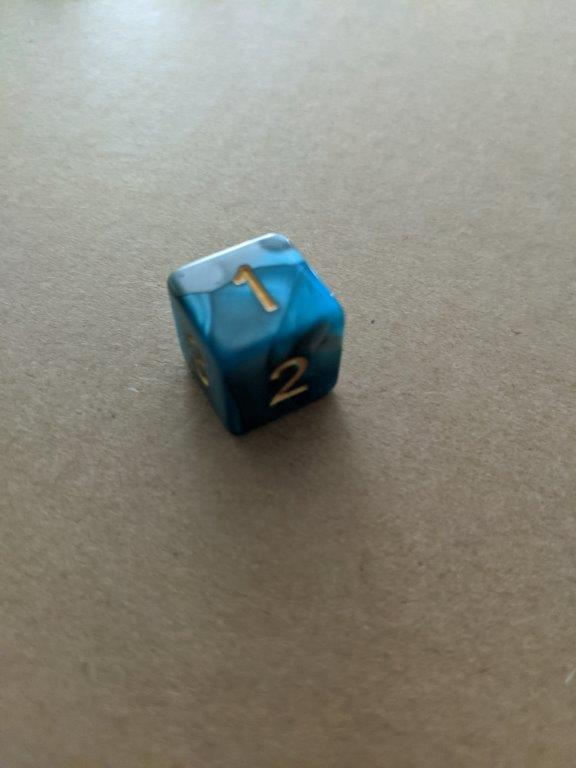d6-1: (167, 233, 348, 435)
